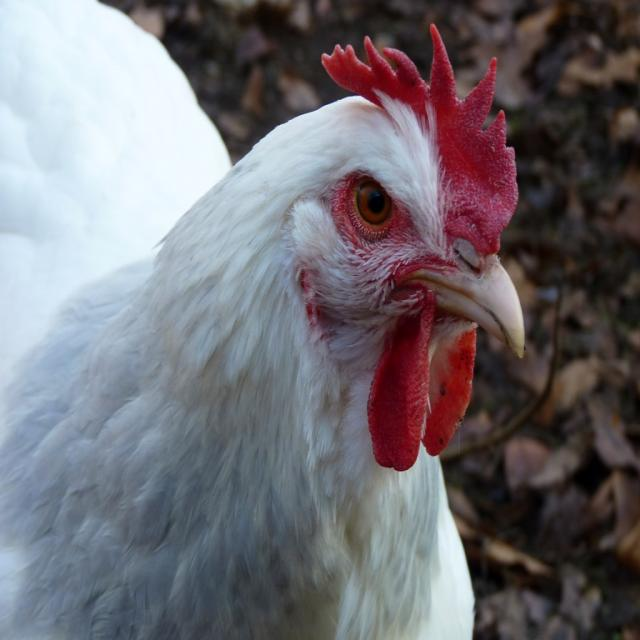Chicken: (0, 22, 522, 639)
